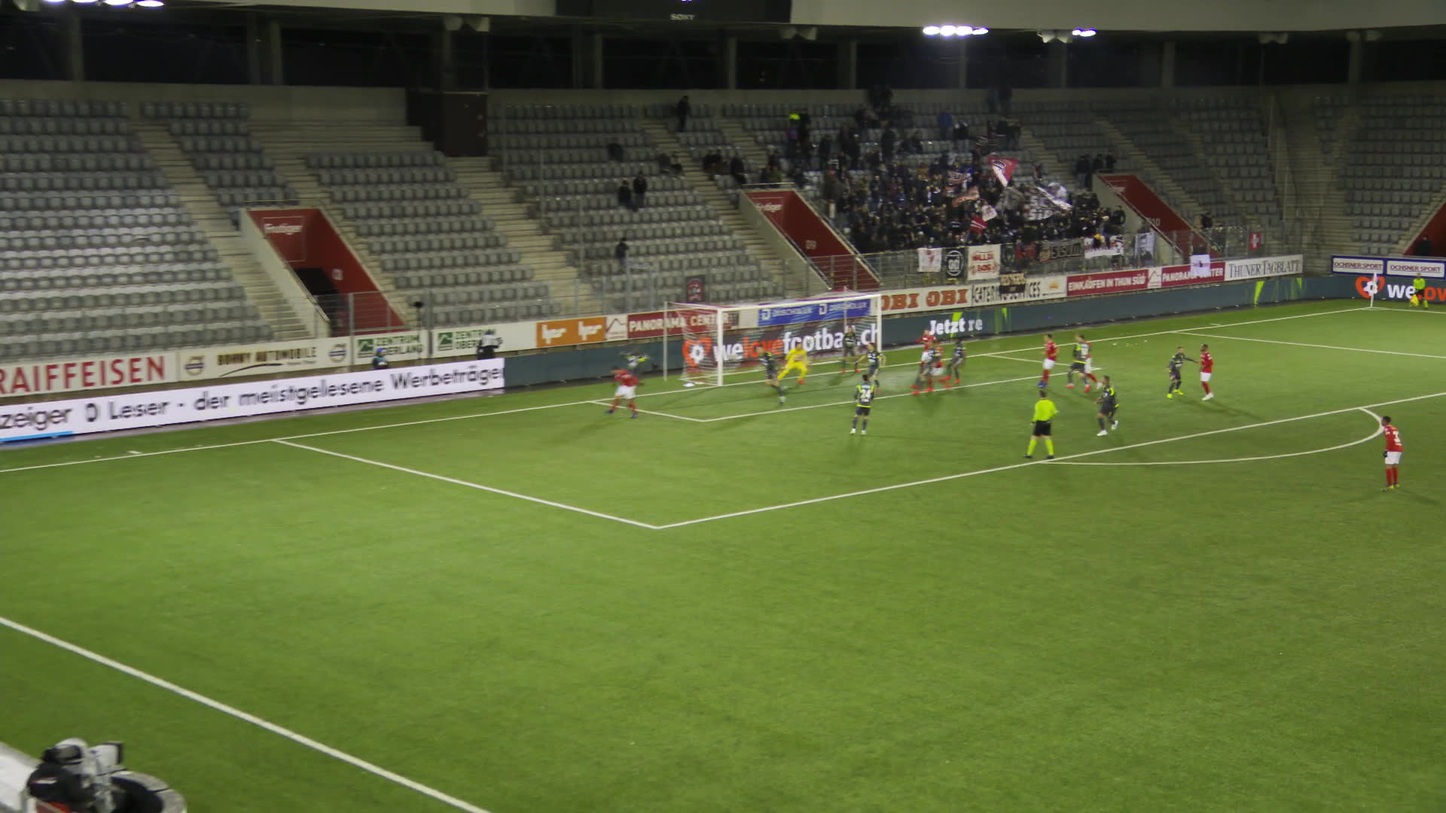ball: (796, 330, 808, 343)
player: (917, 336, 968, 394), (758, 343, 800, 407), (614, 360, 658, 418), (626, 333, 664, 397), (1377, 412, 1406, 493), (919, 335, 954, 394), (1165, 344, 1203, 398), (1091, 372, 1122, 437), (1078, 331, 1111, 391), (779, 338, 819, 387), (848, 373, 878, 436), (858, 340, 892, 394), (1071, 333, 1097, 394), (1042, 330, 1068, 390), (948, 333, 975, 387), (918, 324, 944, 377), (842, 323, 867, 374), (1200, 340, 1219, 402)
referee: (1024, 388, 1063, 459), (1408, 270, 1433, 312)
